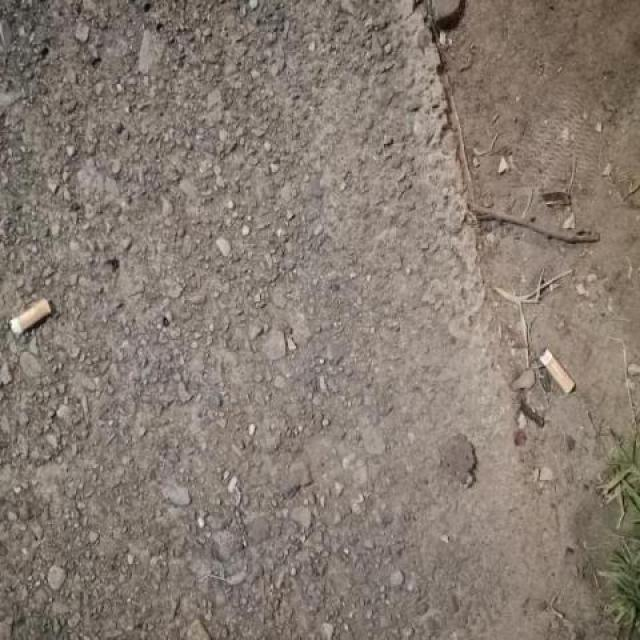non-organic waste: (536, 346, 580, 401), (6, 294, 54, 342)
